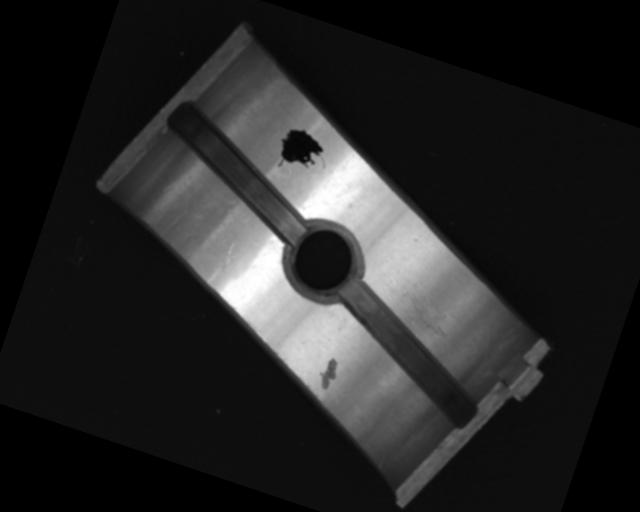blot: (270, 122, 334, 181)
bruise: (314, 353, 343, 393)
gap: (315, 277, 499, 426), (147, 97, 331, 241)
hole: (274, 210, 374, 309)
nick: (205, 238, 241, 290)
scratch: (386, 278, 467, 344)
